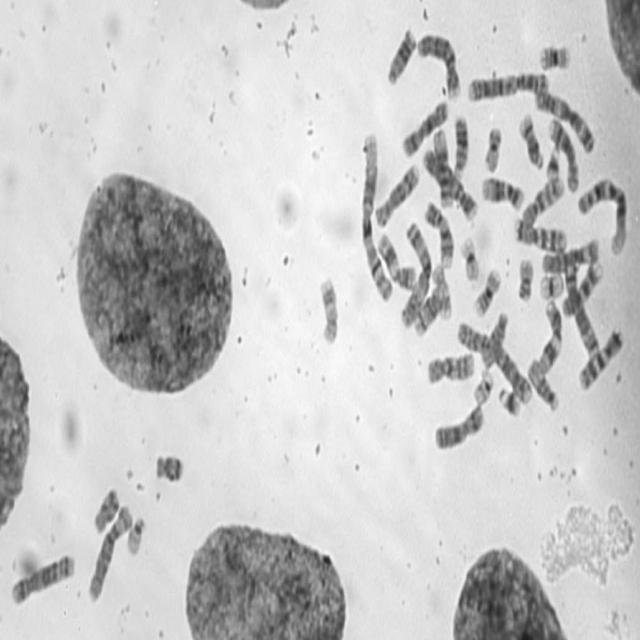A1: (358, 127, 393, 305), (576, 172, 629, 259)
A2: (454, 316, 533, 406), (464, 65, 550, 103)
A3: (533, 84, 596, 156), (398, 218, 433, 329)
B4: (420, 144, 479, 222), (416, 29, 462, 102)
B5: (9, 548, 76, 606), (564, 261, 602, 362)
C10: (518, 173, 565, 230), (424, 348, 476, 386)
C11: (375, 229, 416, 291), (537, 297, 563, 378)
C12: (433, 125, 455, 211), (479, 172, 525, 213)
C6: (85, 500, 133, 604), (539, 234, 600, 274)
C7: (576, 324, 624, 392), (511, 214, 567, 254)
C8: (372, 159, 421, 230), (546, 115, 579, 194)
C9: (560, 252, 604, 318), (422, 196, 455, 272)
D13: (384, 23, 417, 86), (451, 110, 469, 178)
D14: (412, 282, 451, 338), (517, 108, 545, 172)
D15: (478, 307, 509, 372), (526, 355, 560, 413)
E16: (470, 264, 503, 317), (536, 39, 572, 72)
E17: (316, 272, 340, 348), (430, 259, 453, 323)
E18: (91, 484, 120, 536), (153, 448, 185, 486)
F19: (458, 231, 481, 285), (537, 269, 565, 302)
F20: (482, 122, 502, 173), (515, 254, 535, 304)
G21: (497, 383, 522, 419), (543, 142, 561, 183)
G22: (471, 365, 495, 407), (124, 513, 146, 556)
X: (399, 97, 450, 159), (430, 400, 486, 452)
